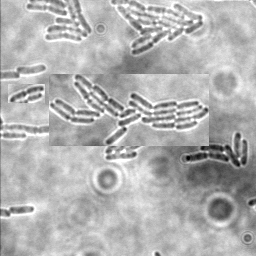Dividing: (8, 84, 45, 103), (8, 204, 35, 215)
Microcolony: (49, 74, 209, 146), (109, 1, 205, 56), (25, 1, 94, 44), (16, 63, 48, 74)
